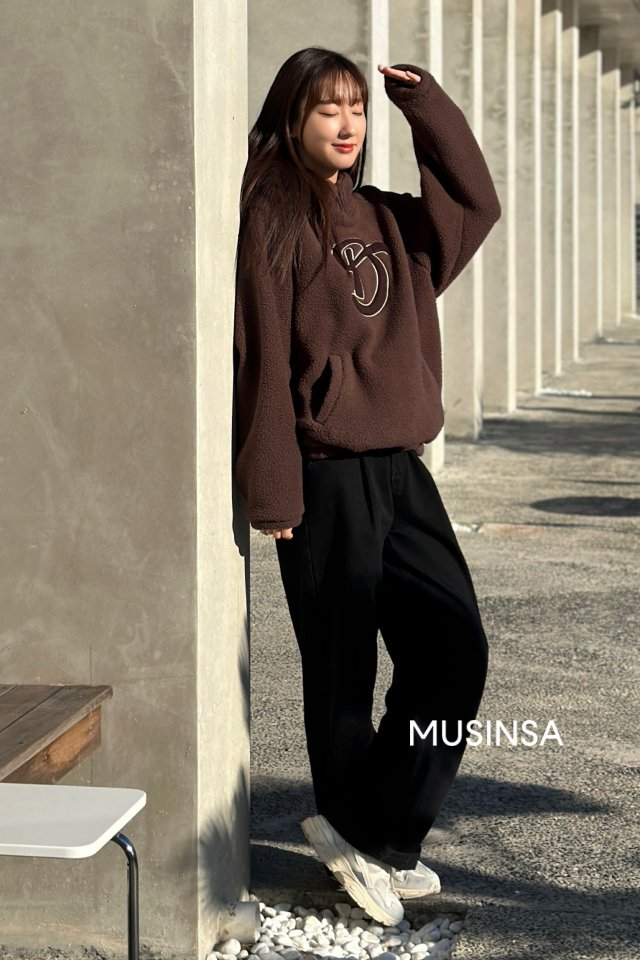Pants: (275, 441, 495, 868)
Shoes: (297, 802, 456, 927)
Top: (214, 142, 495, 460)
